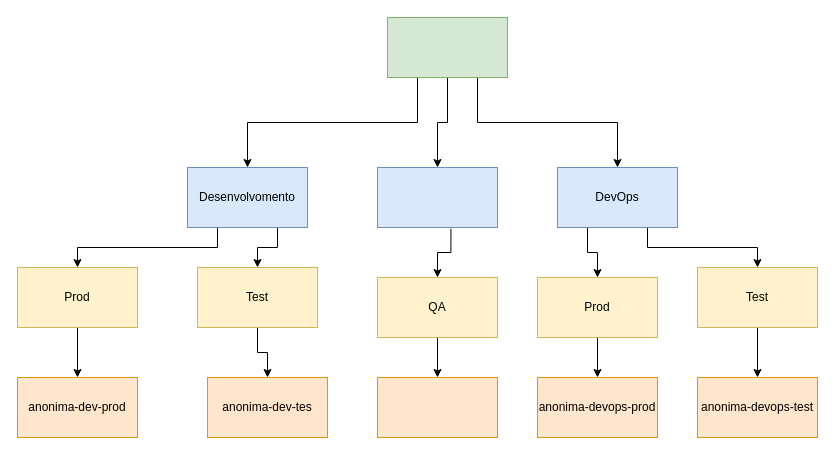
Some shapes in this 835 by 455 pixel diagram are drawn without their labels. The shapes that lost their labels are listed below. From the top down, each one's box as (x1, y1, x2, y2) in pixels, then its label:
(386, 16, 508, 78): Anônima
(376, 166, 498, 228): Suporte
(376, 376, 498, 438): anonima-suporte-qa
